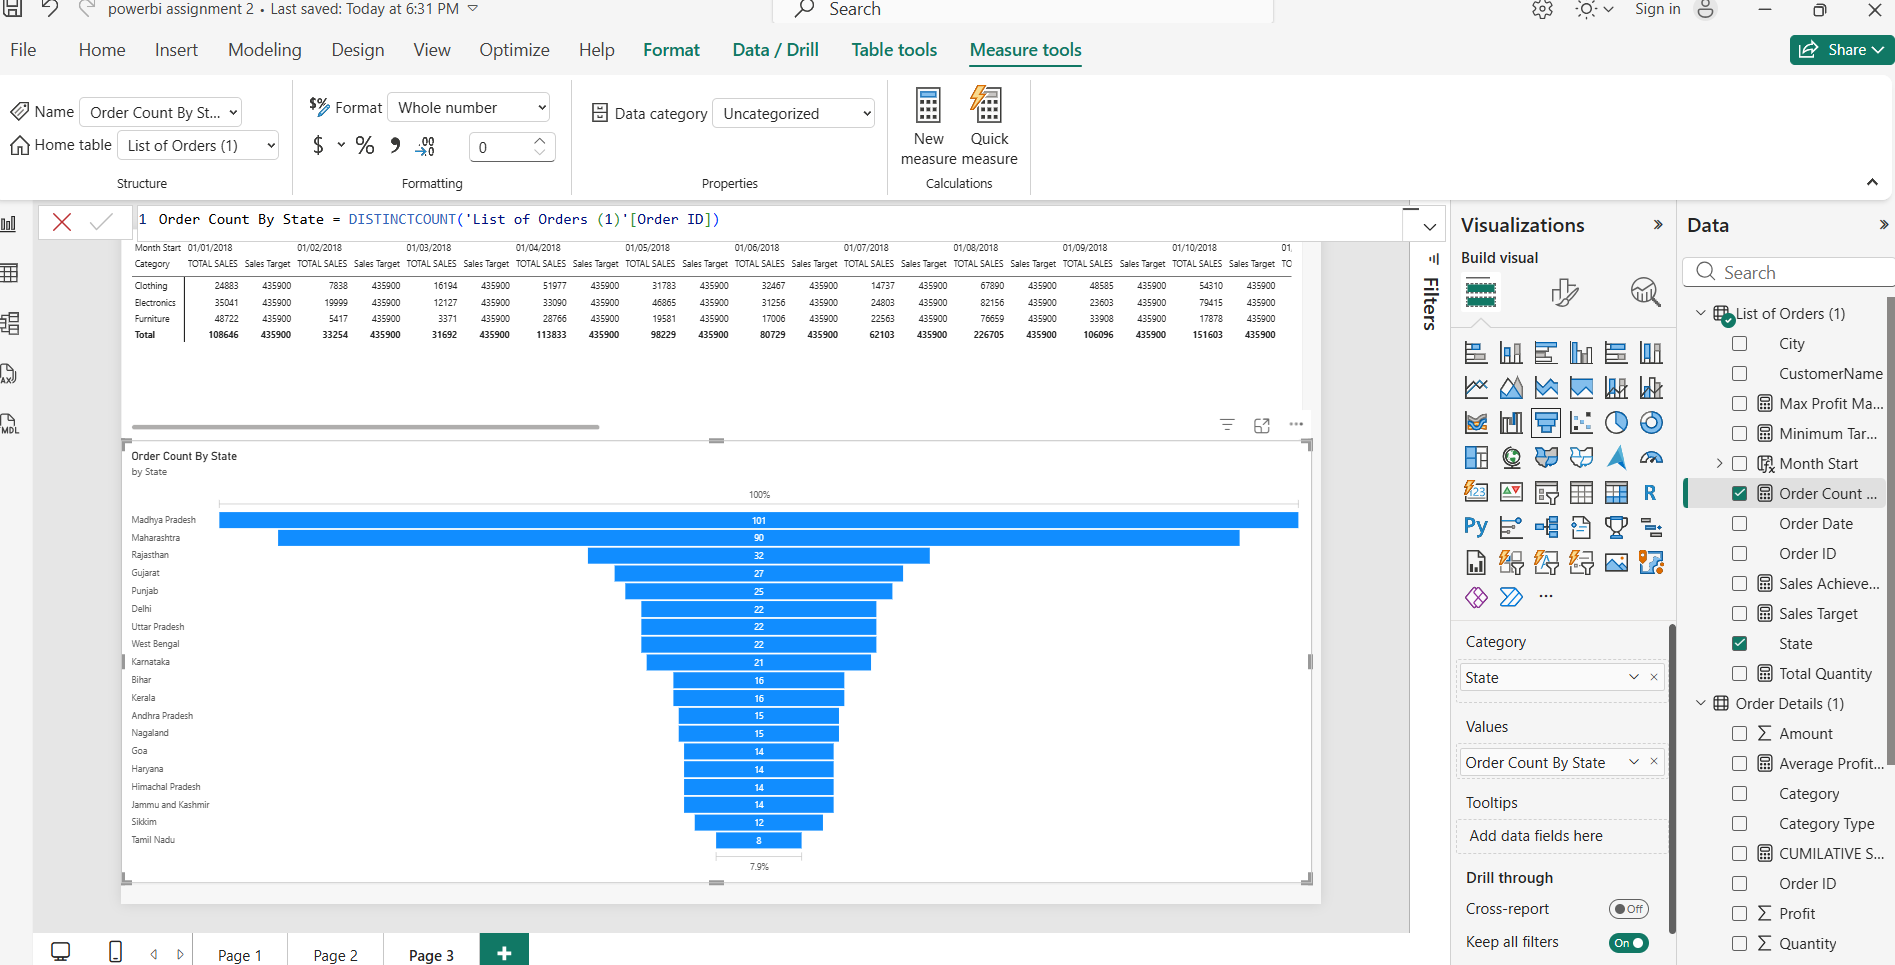

Layout of this report page (visuals, bound fields, positions):
{"tool":"powerbi","page":{"name":"Page 3","canvas":[1920,1080],"ordinal":2},"visuals":[{"type":"pivotTable","fields":{"Columns":["List of Orders (1).Month Start"],"Rows":["Order Details (1).Category"],"Values":["Order Details (1).TOTAL SALES","List of Orders (1).Sales Target"]},"box":[0,0,1890.2,338.7],"z":0},{"type":"funnel","fields":{"Category":["List of Orders (1).State"],"Y":["List of Orders (1).Order Count By State"]},"box":[0,338,1906,710],"z":1}]}

Visuals, with their boxes on the page's 1920x1080 design canvas (x1, y1, x2, y2). These are canvas units, not pixel positions in the 1895x965 screenshot, which may show the page scaled, cropped or inside an application window:
pivotTable - List of Orders (1).Month Start x Order Details (1).Category: <box>0,0,1890,339</box>
funnel - List of Orders (1).State x List of Orders (1).Order Count By State: <box>0,338,1906,1048</box>
